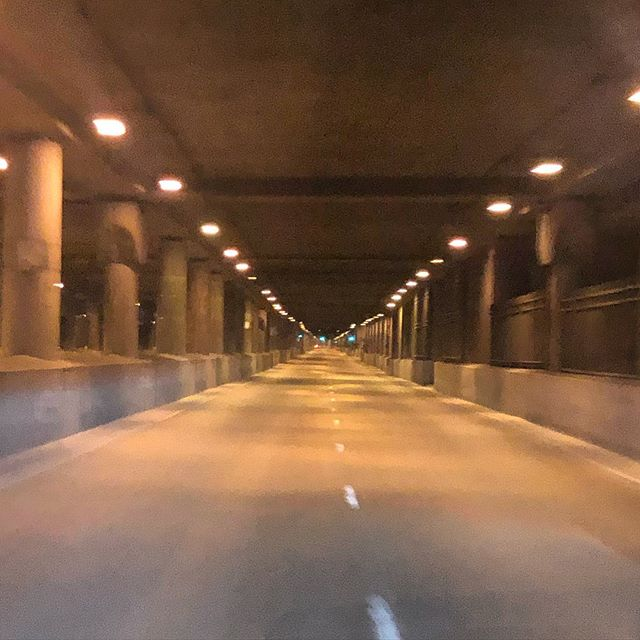collumn: (1, 137, 69, 360), (91, 193, 153, 361), (150, 233, 191, 363)
road: (1, 360, 640, 639)
